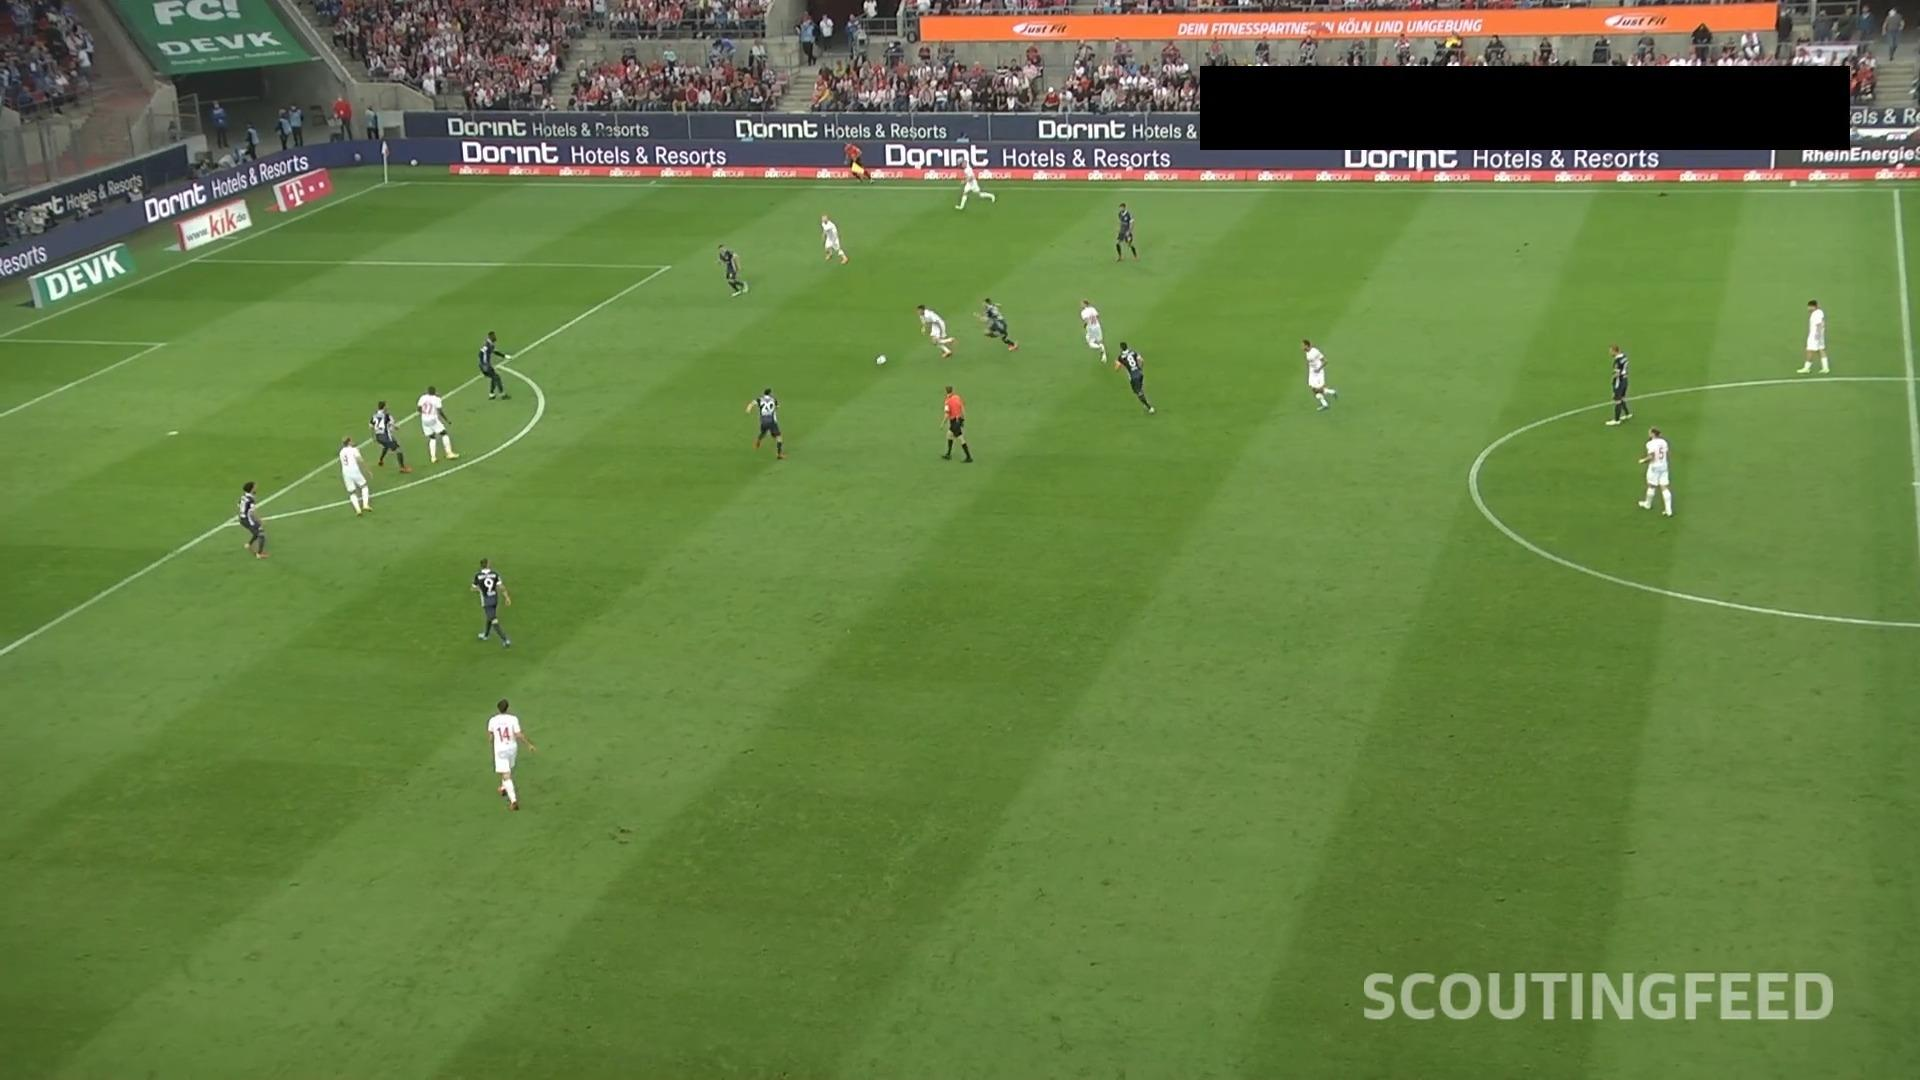ball: (876, 352, 889, 365)
